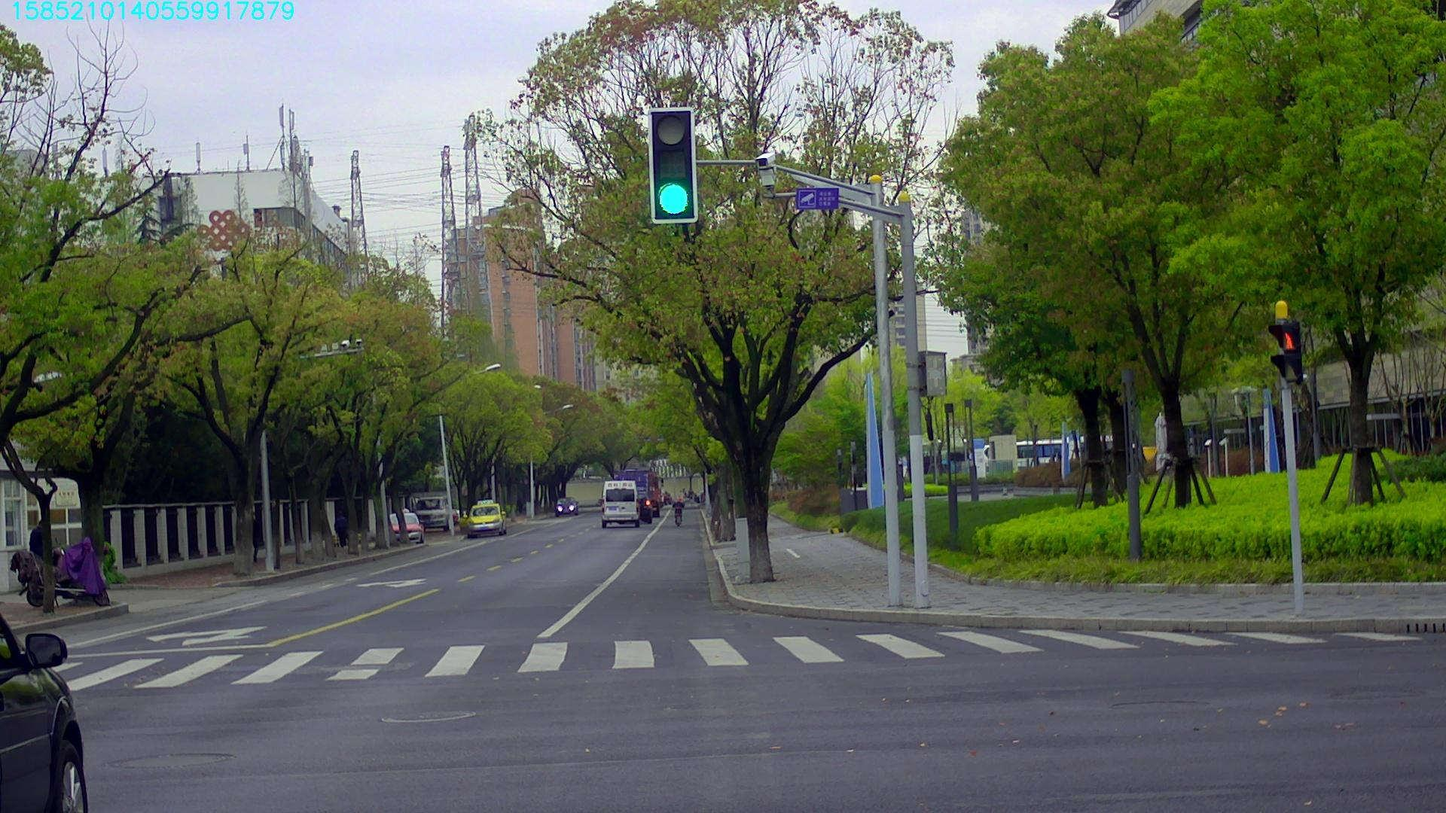green: (650, 109, 694, 221)
